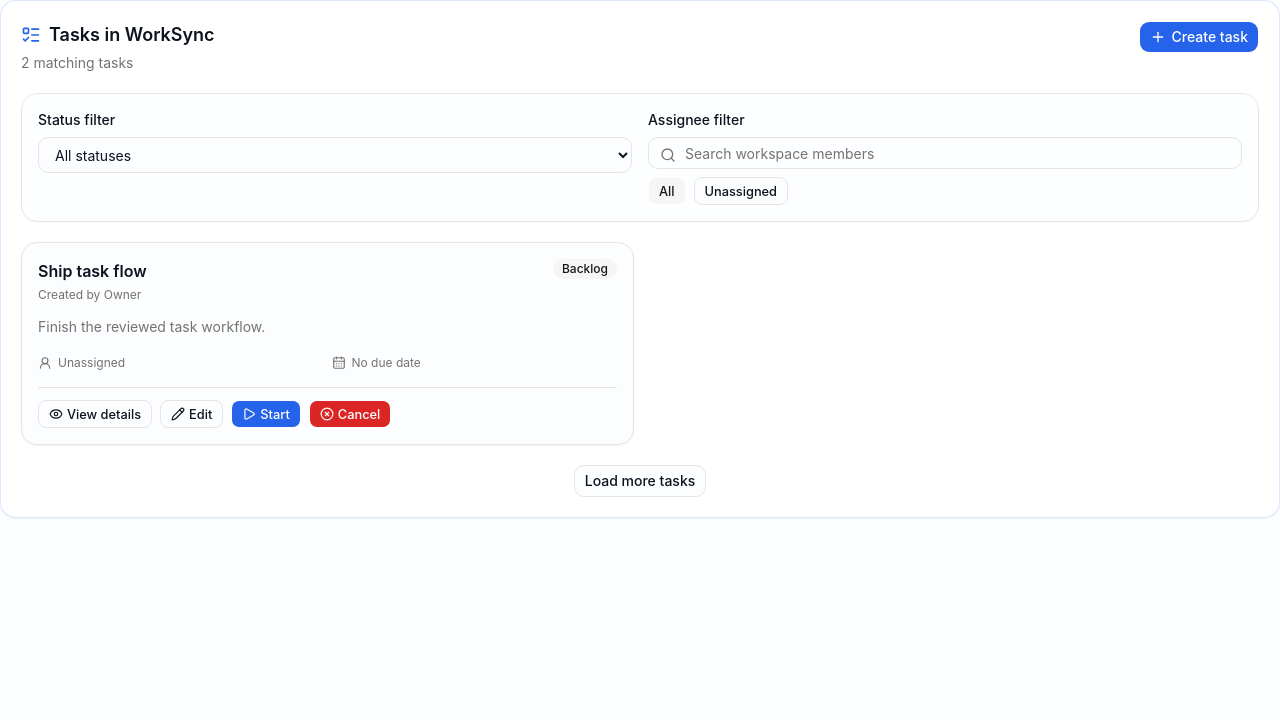
TaskSection › offers reconciliation when the final covered page is empty
Click the button "Load more tasks" at (640, 481), box [574,465,706,497]
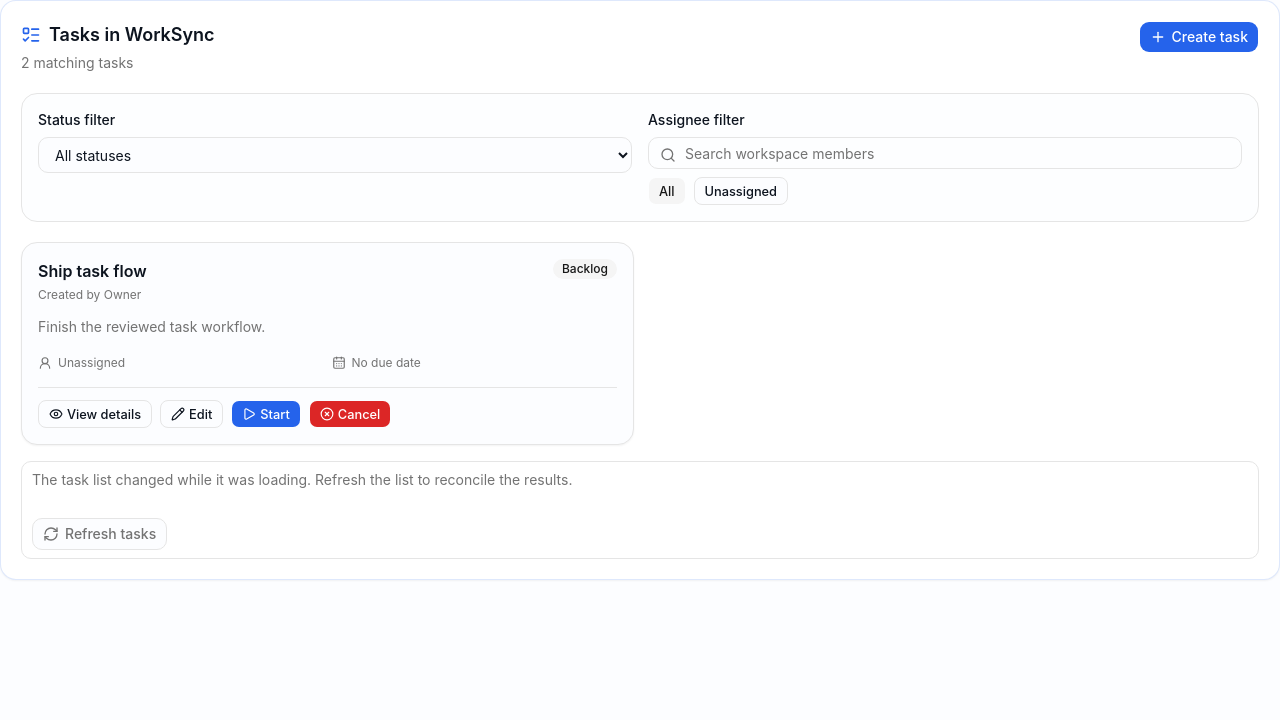
Expected: the button "Refresh tasks" is enabled, [32,518,167,550]
Result: the button "Load more tasks" is gone
